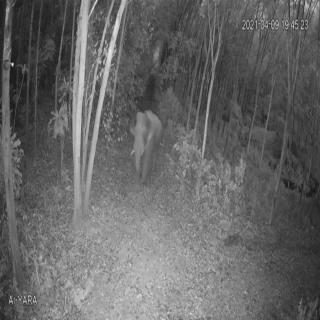Elephant: (128, 105, 164, 187)
